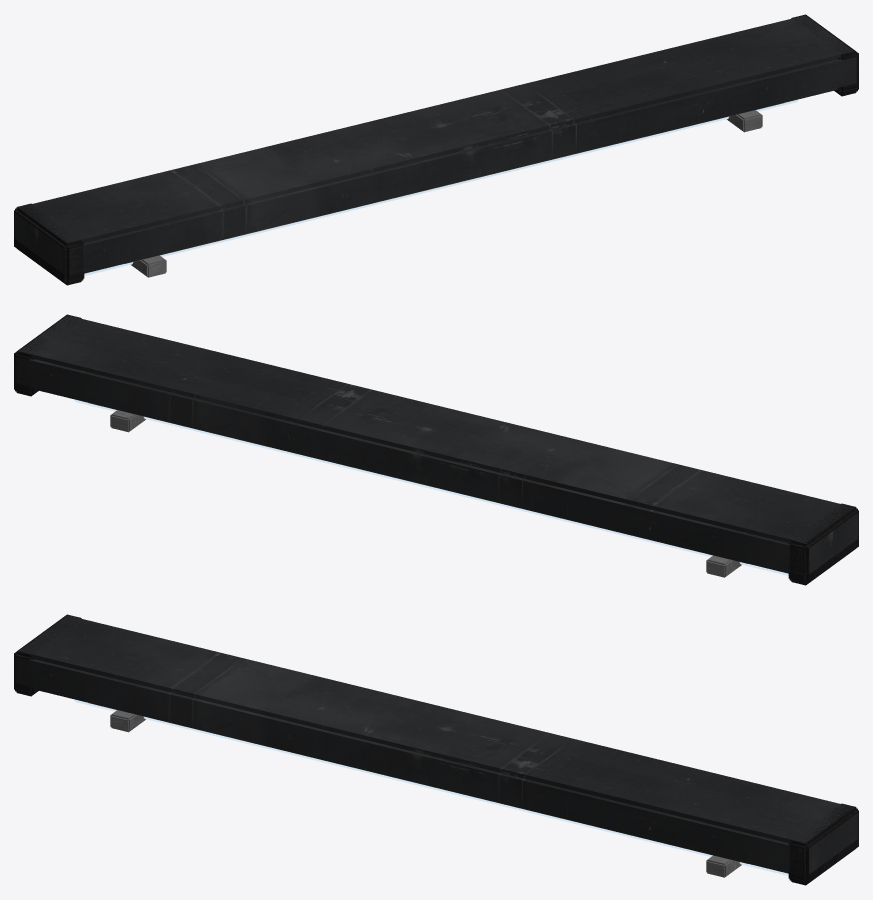
Rendered from fluorescent_light.gltf.
3 views of the same model, one above another, from view 1: azimuth 30°, elevation 25°; view 2: azimuth 150°, elevation 25°; view 3: azimuth 330°, elevation 25° (orthographic).
Parts seen in each view (by area): view 1: Body, Emit_Tube; view 2: Body, Emit_Tube; view 3: Body, Emit_Tube.
Part boxes in pixels (x1,y1,x2,y2): Body: [14, 14, 858, 285]; Emit_Tube: [84, 99, 798, 275]; Body: [14, 314, 858, 585]; Emit_Tube: [74, 399, 788, 575]; Body: [14, 614, 858, 885]; Emit_Tube: [74, 699, 788, 875].
Size of the model in its own units: 1.2 by 0.087 by 0.14.
4 materials, 3 textured.
